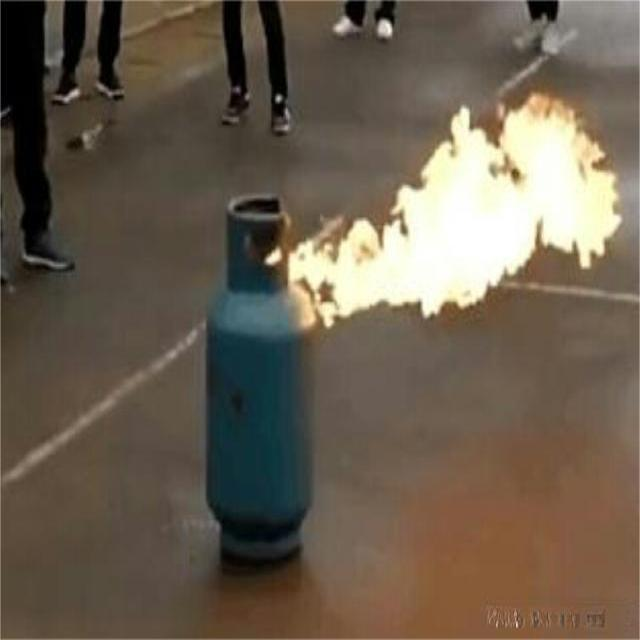Fire: (289, 91, 620, 326)
